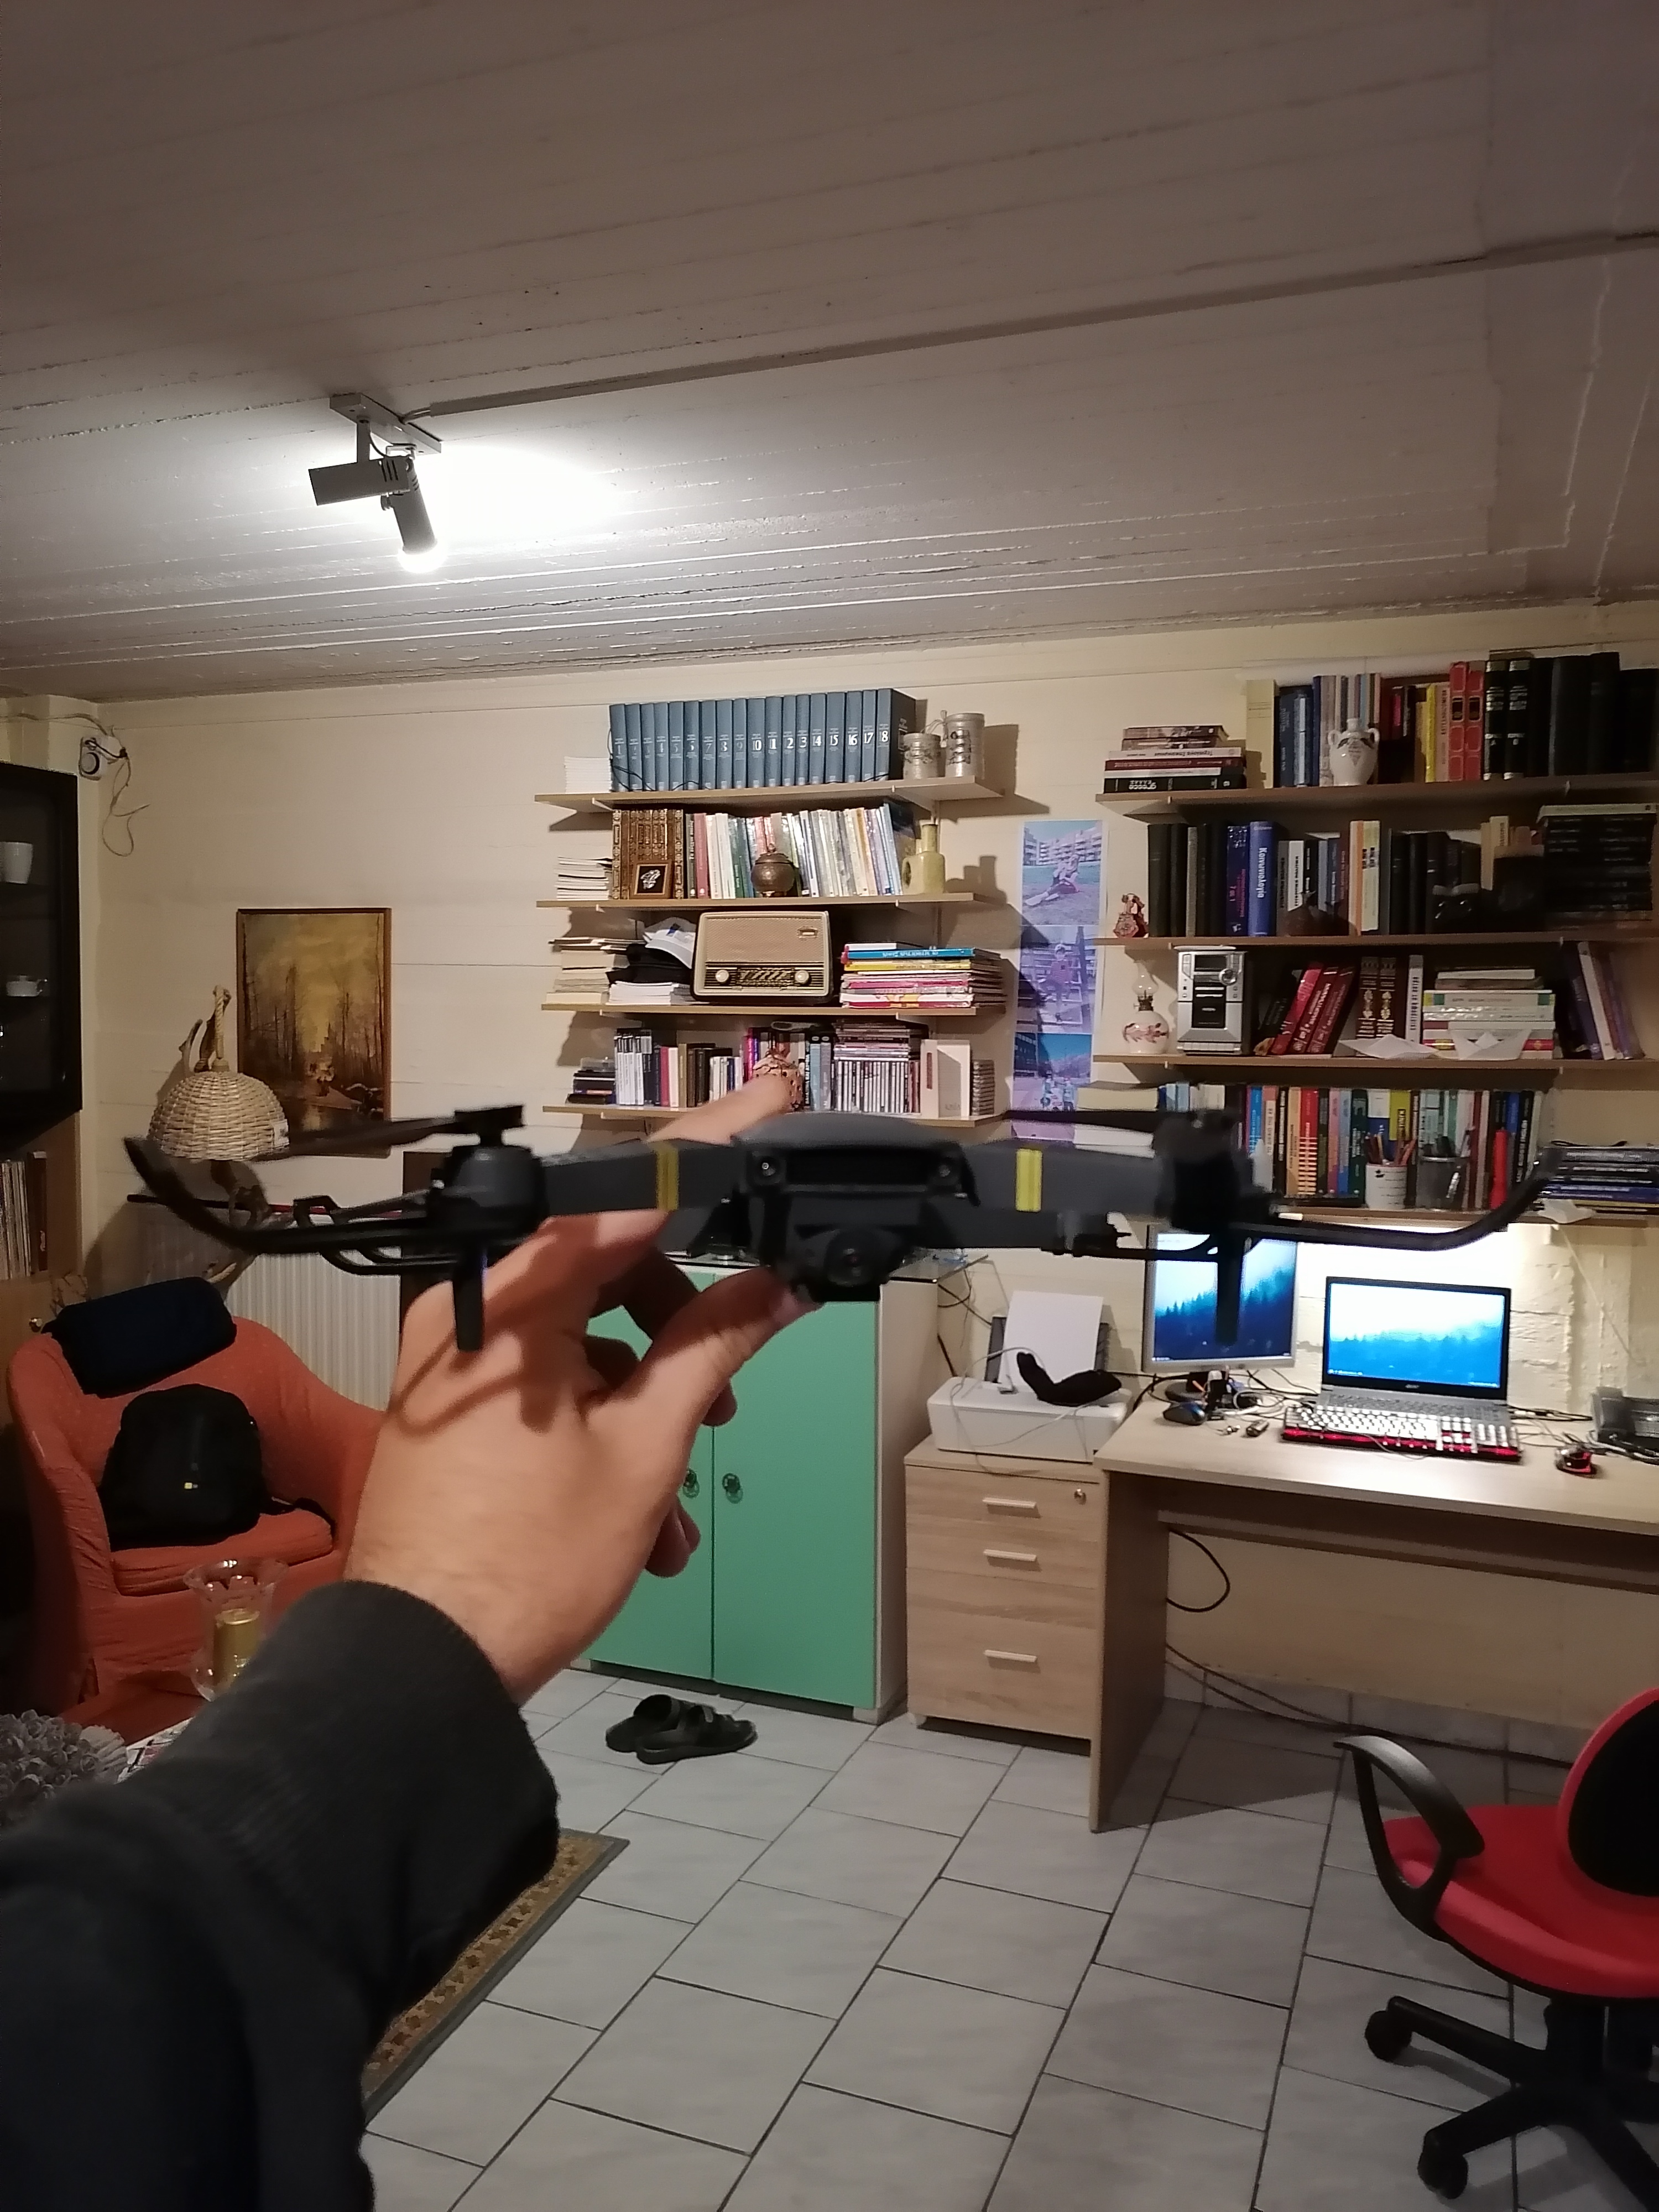drone: (96, 1057, 1629, 1359)
